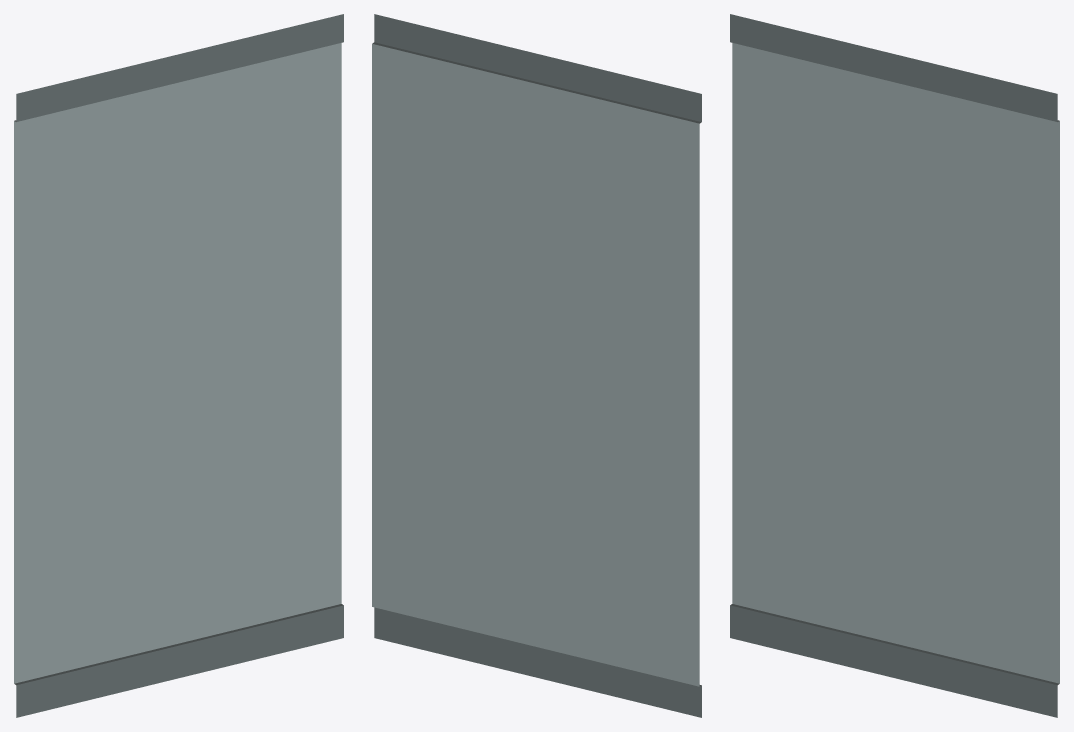
Rendered from WallLarge3.glb.
3 views of the same model, side by side, from view 1: azimuth 30°, elevation 25°; view 2: azimuth 150°, elevation 25°; view 3: azimuth 330°, elevation 25° (orthographic).
Visible parts, largest first — view 1: SI_Env_Wall_Large_03; view 2: SI_Env_Wall_Large_03; view 3: SI_Env_Wall_Large_03.
Part boxes in pixels (x1=…): SI_Env_Wall_Large_03: x1=14, y1=14, x2=343, y2=717; SI_Env_Wall_Large_03: x1=372, y1=14, x2=701, y2=717; SI_Env_Wall_Large_03: x1=730, y1=14, x2=1059, y2=717.
Bounding box in the file's own units: 0.05 × 0.091 × 0.000549.
Materials: 1 (1 with a texture image).
